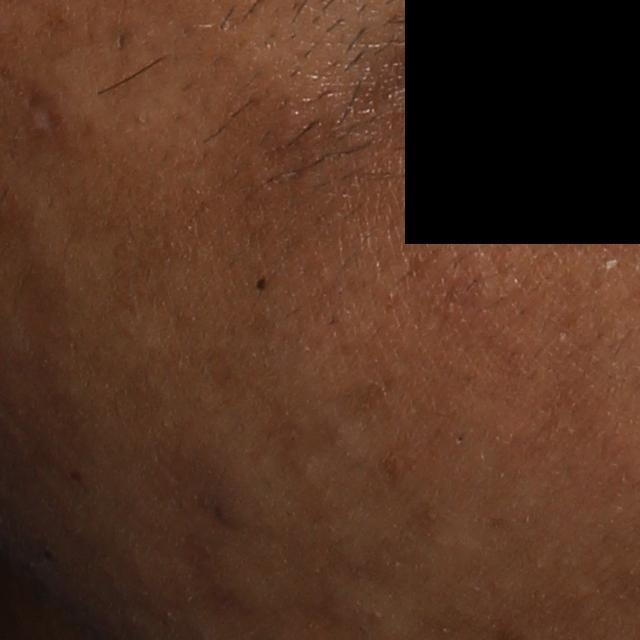nevus: (249, 272, 267, 293)
